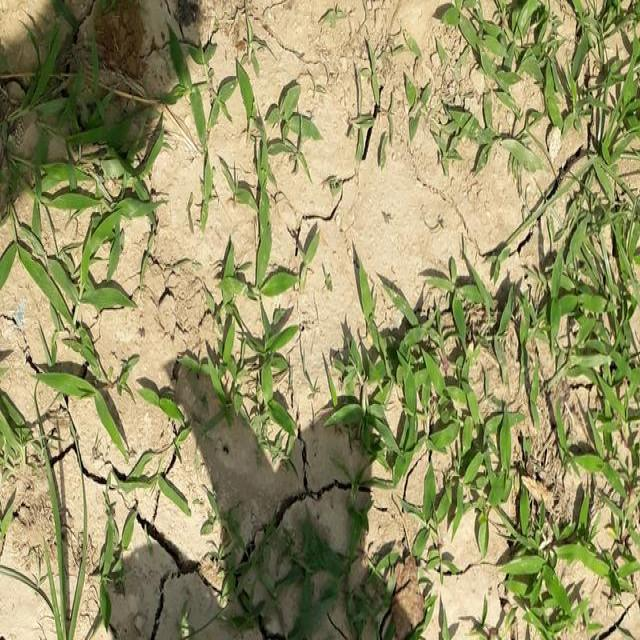weed: (334, 255, 640, 632), (3, 26, 174, 537), (430, 0, 636, 195)
